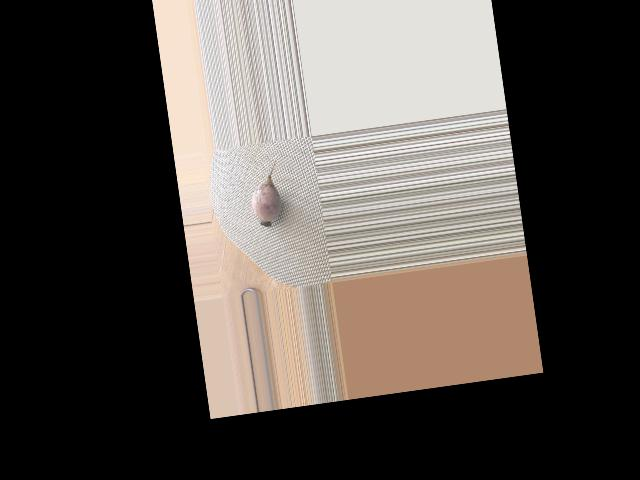beet: (245, 153, 290, 229)
